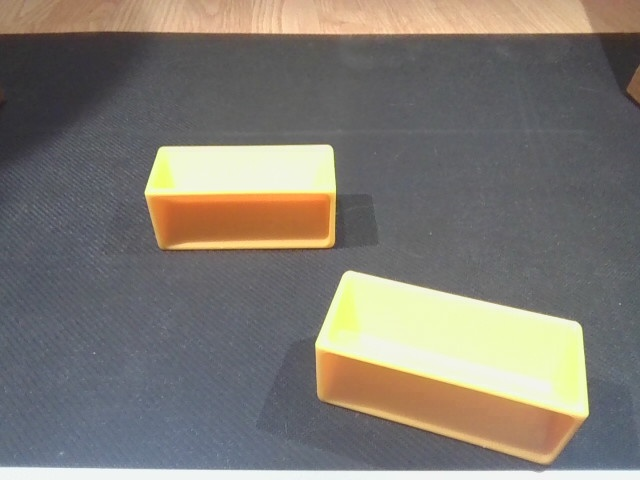YellowSample: (309, 268, 592, 471), (140, 139, 348, 251)
